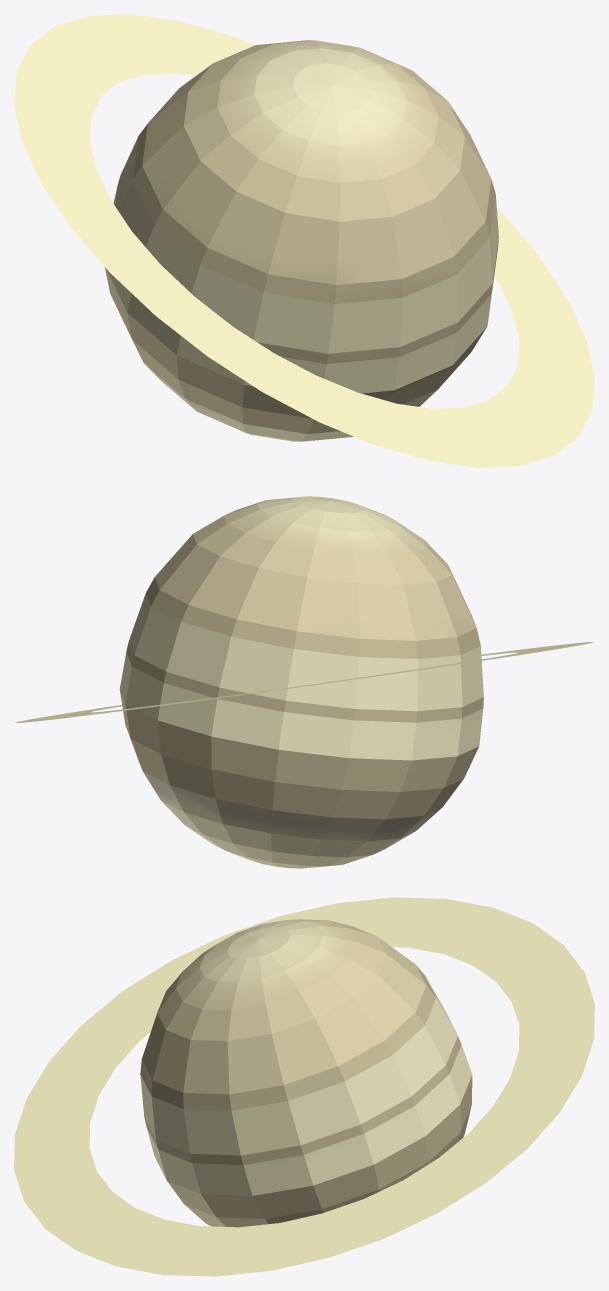
The model's file is Saturn.fbx.
3 views of the same model, one above another, from view 1: azimuth 30°, elevation 25°; view 2: azimuth 150°, elevation 25°; view 3: azimuth 270°, elevation 25° (orthographic). The views are drawn at different scales.
Visible parts, largest first — view 1: Saturn; view 2: Saturn; view 3: Saturn.
Part boxes in pixels (<box>): Saturn: <box>14,14,594,467</box>; Saturn: <box>15,496,593,868</box>; Saturn: <box>14,897,594,1276</box>.
Bounding box in the file's own units: 12794 × 9002 × 15575.
